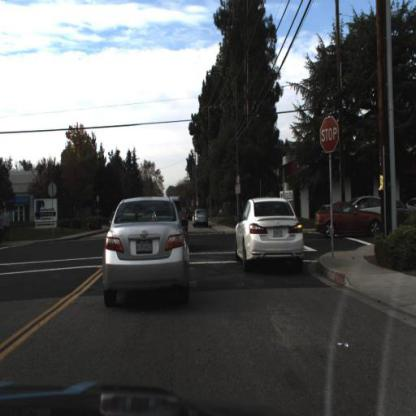car: (101, 197, 188, 309), (236, 198, 306, 273), (315, 201, 384, 243), (357, 196, 397, 217), (191, 205, 210, 231)
pedestrian: (2, 207, 13, 247)
